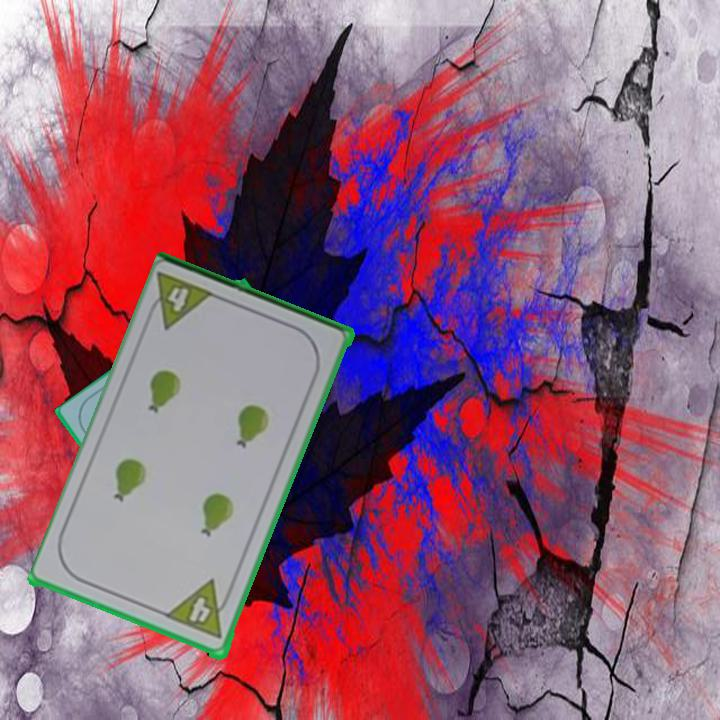4p: (142, 268, 219, 334), (163, 577, 236, 642)
